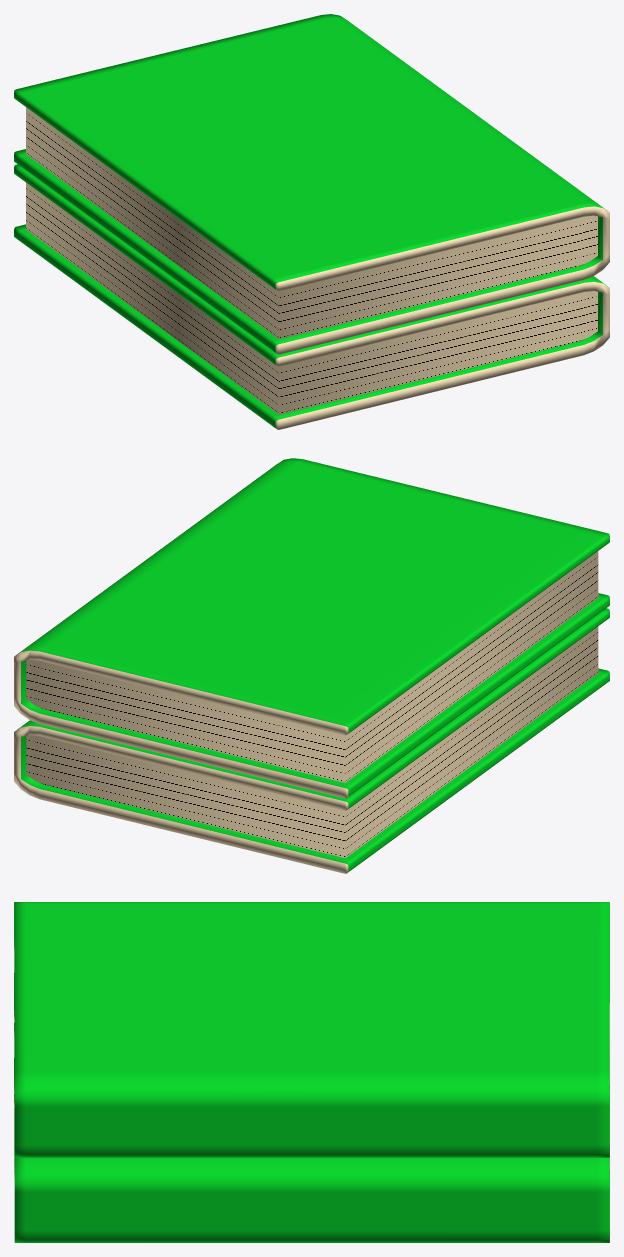
Rendered from books-two-seiretsu.fbx.
The picture shows the model from 3 angles, top to bottom: view 1: azimuth 30°, elevation 25°; view 2: azimuth 150°, elevation 25°; view 3: azimuth 270°, elevation 25°; orthographic projection. The views are drawn at different scales.
Visible parts, largest first — view 1: books_green; view 2: books_green; view 3: books_green.
Boxes of the visible parts, x1,y1,x2,y2 form: books_green: (14, 14, 609, 429); books_green: (14, 458, 609, 873); books_green: (14, 902, 609, 1242).
Size of the model in its own units: 8.66 by 3.66 by 11.81.
Materials: 1 (1 with a texture image).
